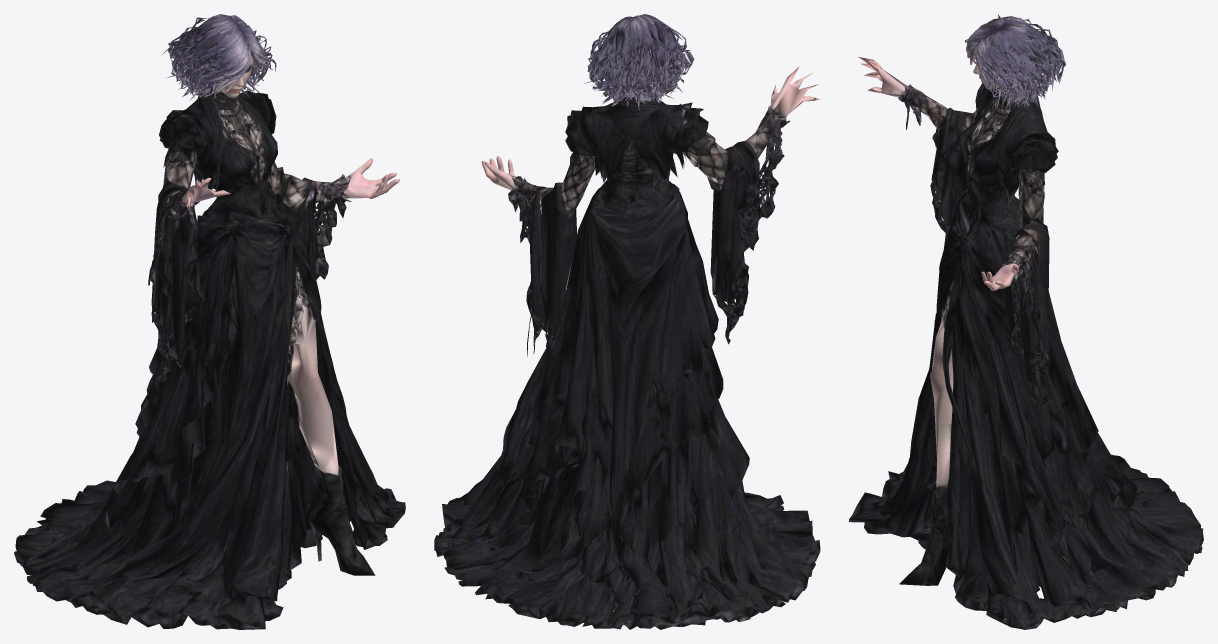
The model's file is psion-meshy.glb.
3 views of the same model, side by side, from view 1: azimuth 30°, elevation 25°; view 2: azimuth 150°, elevation 25°; view 3: azimuth 270°, elevation 25° (orthographic). The views are drawn at different scales.
Parts seen in each view (by area): view 1: psion_lod0; view 2: psion_lod0; view 3: psion_lod0.
Part boxes in pixels (<box>): psion_lod0: <box>14,14,405,629</box>; psion_lod0: <box>434,14,820,629</box>; psion_lod0: <box>849,14,1203,629</box>.
Size of what is drawn, in the model's own units: 0.8065 by 1.15 by 0.7072.
1 material, 1 textured.
